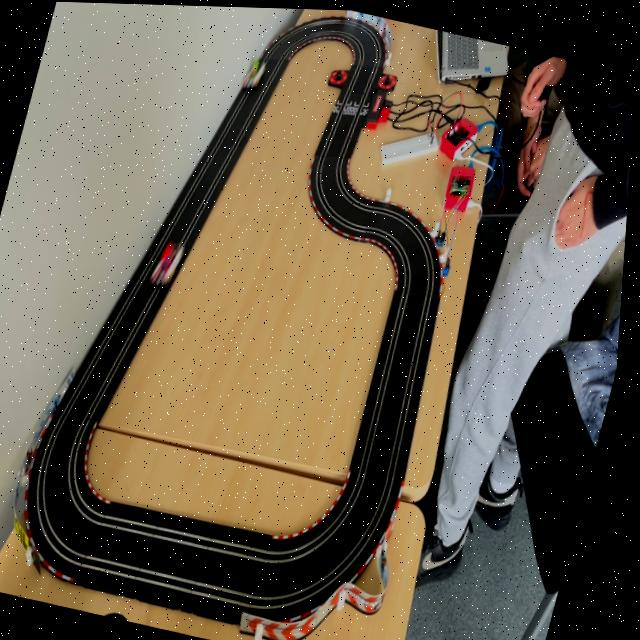mario: (149, 232, 194, 292)
yoshi: (241, 56, 272, 92)
